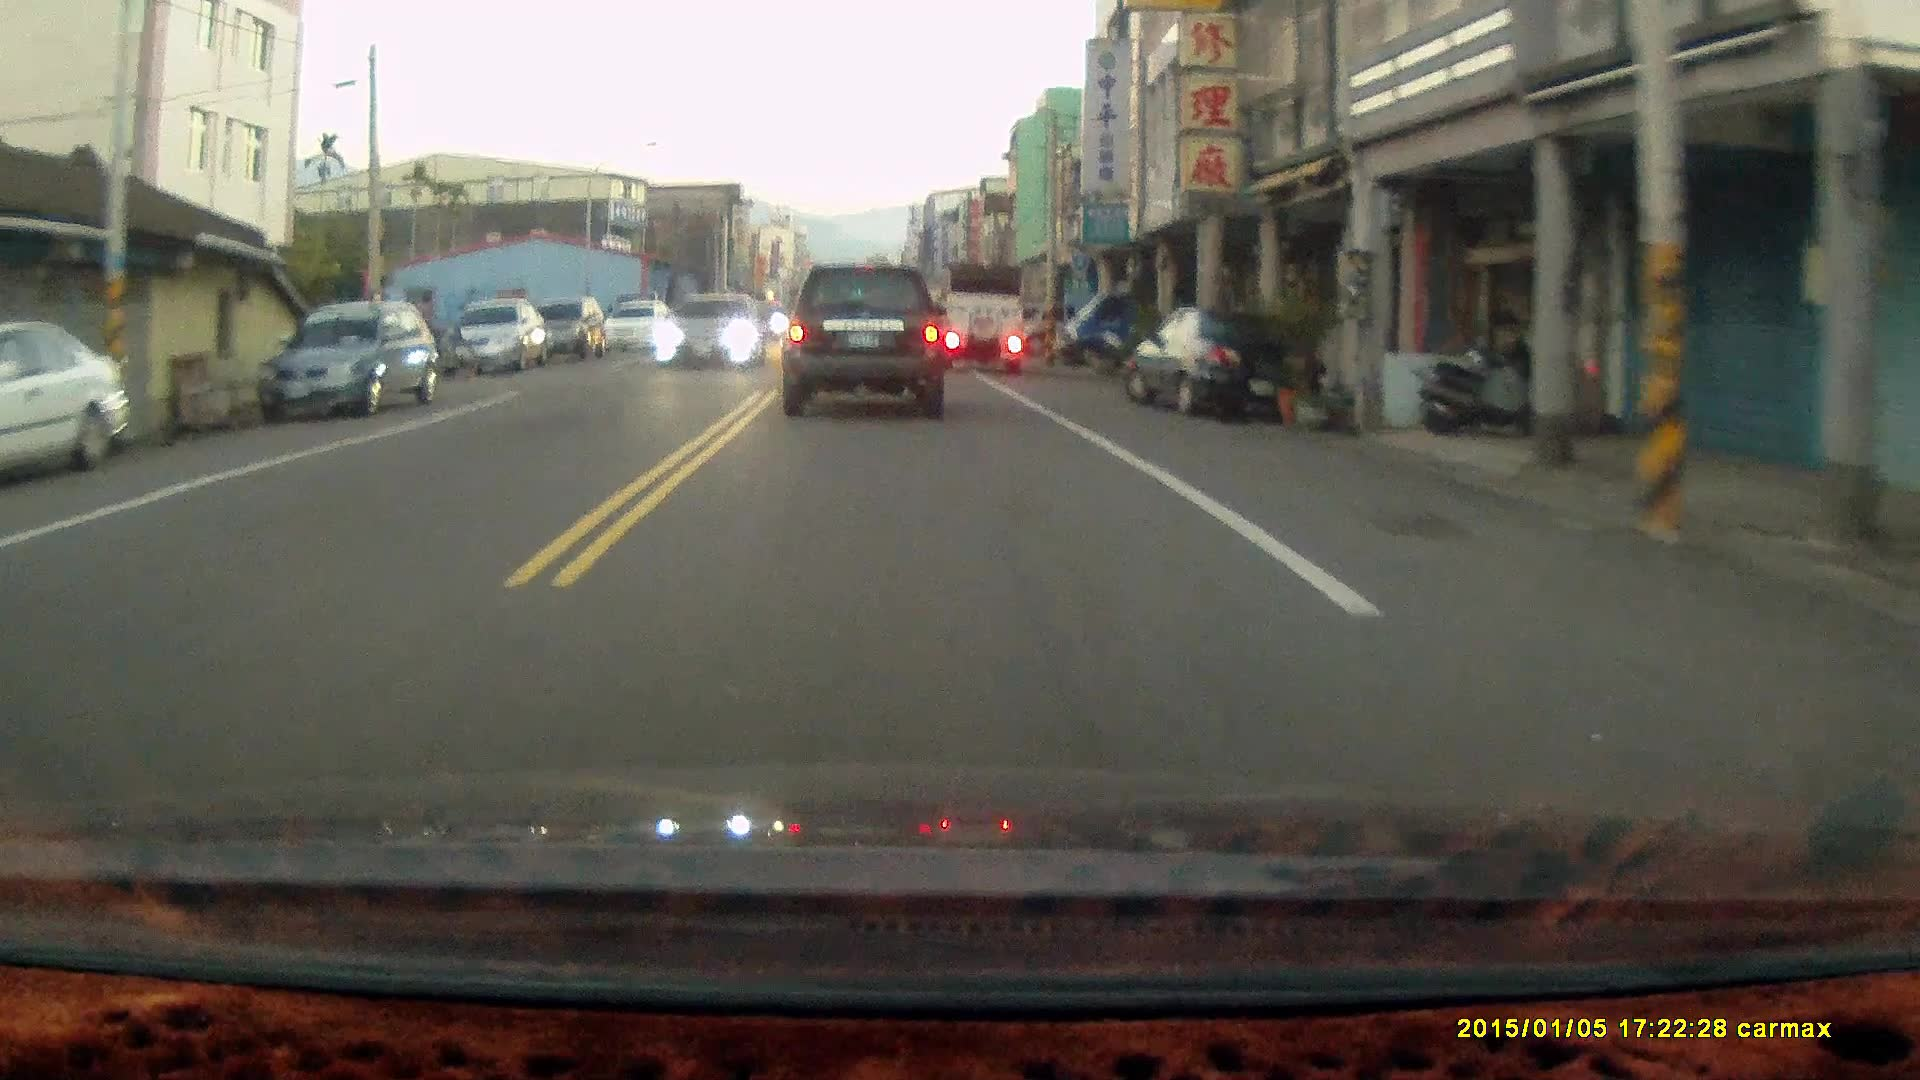vehicle: (785, 262, 951, 419), (1, 320, 135, 487), (260, 299, 443, 417), (1124, 305, 1316, 414), (1056, 280, 1197, 373), (942, 258, 1027, 372), (650, 291, 766, 371), (446, 298, 546, 376), (524, 294, 608, 360), (605, 301, 678, 356)
